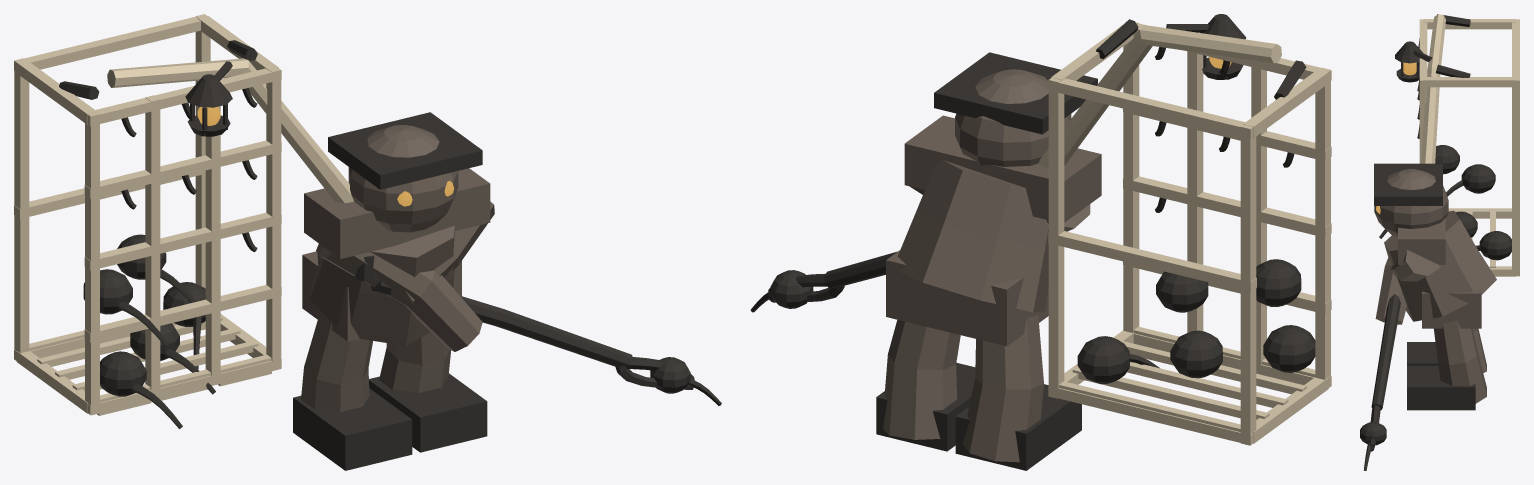
Rendered from ratcatcher.glb.
The picture shows the model from 3 angles, left to right: view 1: azimuth 30°, elevation 25°; view 2: azimuth 150°, elevation 25°; view 3: azimuth 270°, elevation 25°; orthographic projection. The views are drawn at different scales.
Visible parts, largest first — view 1: ratcatcher_bone, ratcatcher_body, ratcatcher_dark; view 2: ratcatcher_bone, ratcatcher_body, ratcatcher_dark; view 3: ratcatcher_body, ratcatcher_dark, ratcatcher_bone, ratcatcher_glow.
Boxes of the visible parts, x1,y1,x2,y2 form: ratcatcher_bone: [14, 14, 353, 415]; ratcatcher_body: [301, 125, 494, 412]; ratcatcher_dark: [59, 40, 721, 470]; ratcatcher_bone: [1038, 22, 1331, 445]; ratcatcher_body: [883, 69, 1101, 462]; ratcatcher_dark: [750, 14, 1315, 470]; ratcatcher_body: [1374, 169, 1496, 403]; ratcatcher_dark: [1360, 14, 1511, 470]; ratcatcher_bone: [1419, 14, 1519, 276]; ratcatcher_glow: [1376, 62, 1416, 213].
Size of the model in its own units: 3.73 by 2.62 by 1.33.
